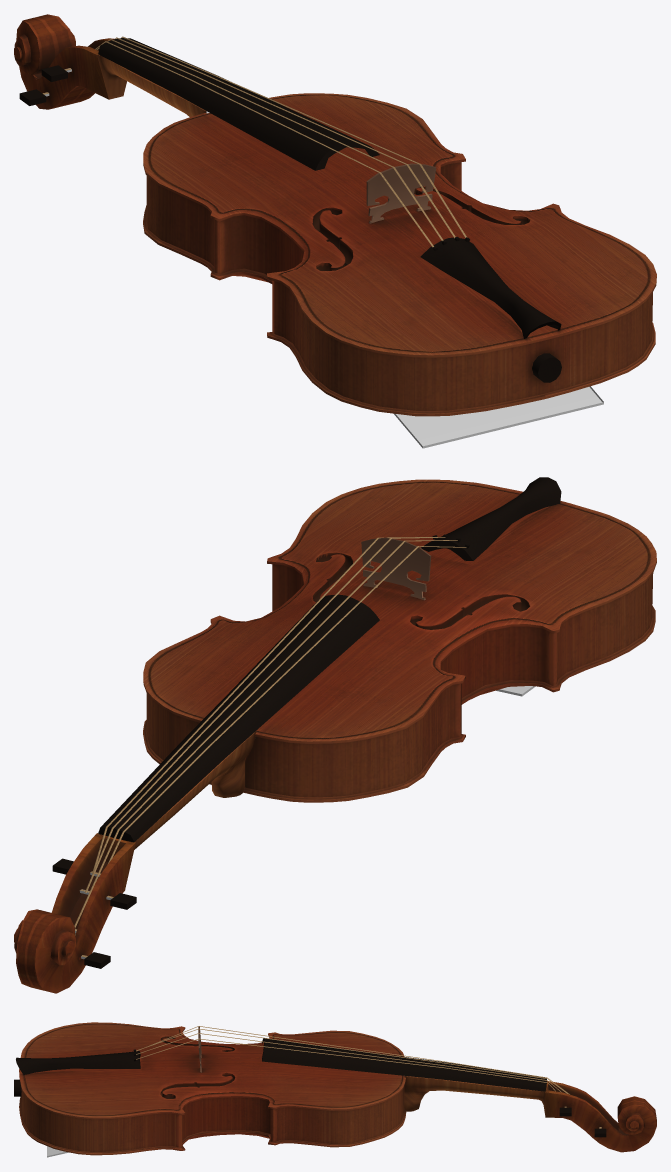
File: EN_P_Violin_note.fbx
3 views of the same model, one above another, from view 1: azimuth 30°, elevation 25°; view 2: azimuth 150°, elevation 25°; view 3: azimuth 270°, elevation 25° (orthographic). The views are drawn at different scales.
Parts seen in each view (by area): view 1: Violin_note; view 2: Violin_note; view 3: Violin_note.
Part boxes in pixels (left/top/right/bottom): Violin_note: left=14, top=14, right=656, bottom=448; Violin_note: left=14, top=477, right=656, bottom=993; Violin_note: left=14, top=1022, right=656, bottom=1157.
Size of the model in its own units: 20.85 by 11.98 by 59.36.
